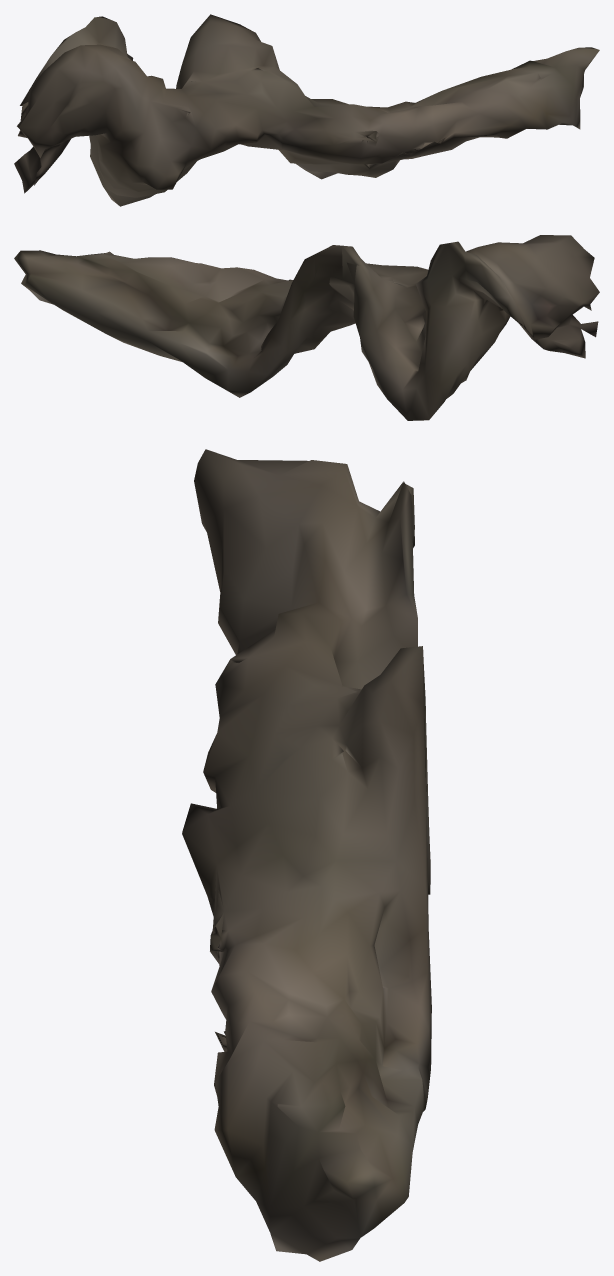
File: lowpol.obj
3 views of the same model, one above another, from view 1: azimuth 30°, elevation 25°; view 2: azimuth 150°, elevation 25°; view 3: azimuth 270°, elevation 25° (orthographic). The views are drawn at different scales.
Size of the model in its own units: 74.91 by 26.71 by 14.73.
